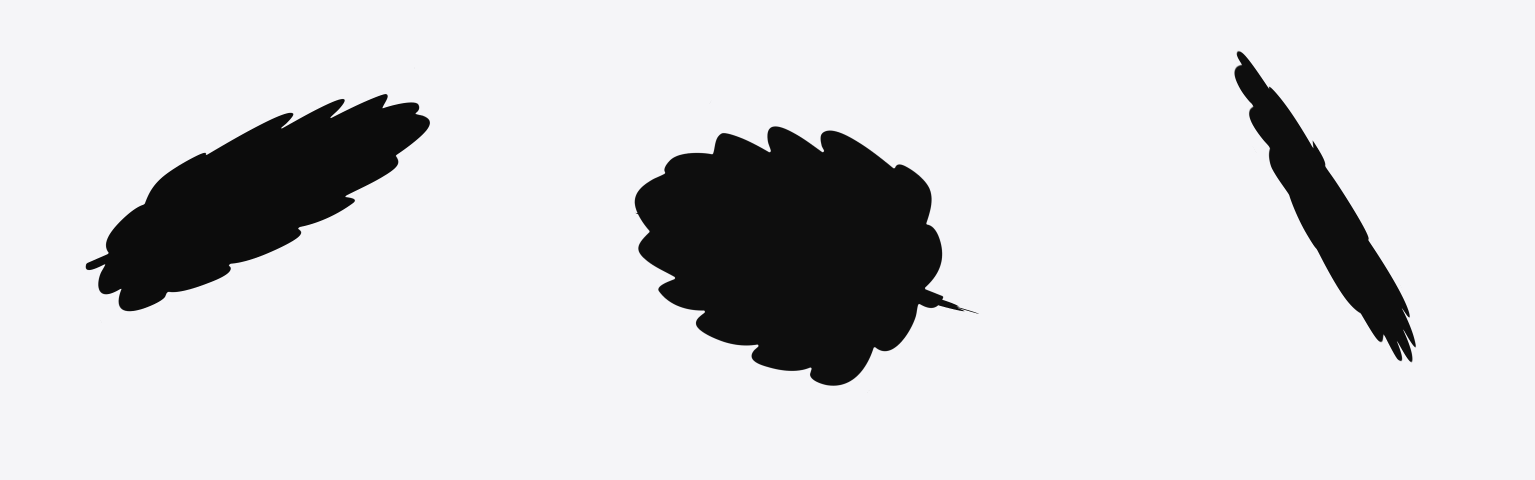
File: PineCone.glb
The picture shows the model from 3 angles, left to right: view 1: azimuth 30°, elevation 25°; view 2: azimuth 150°, elevation 25°; view 3: azimuth 270°, elevation 25°; orthographic projection. The views are drawn at different scales.
Visible parts, largest first — view 1: PineCone; view 2: PineCone; view 3: PineCone.
Part boxes in pixels (left/top/right/bottom): PineCone: left=85, top=94, right=429, bottom=311; PineCone: left=634, top=126, right=978, bottom=385; PineCone: left=1234, top=51, right=1415, bottom=362.
Size of the model in its own units: 2.65 by 2.32 by 2.07.
1 material, 1 textured.
